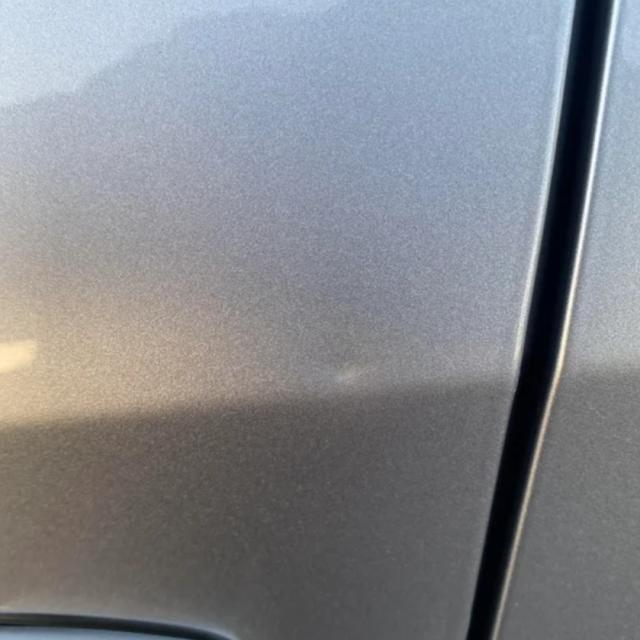dents: (303, 325, 464, 430)
